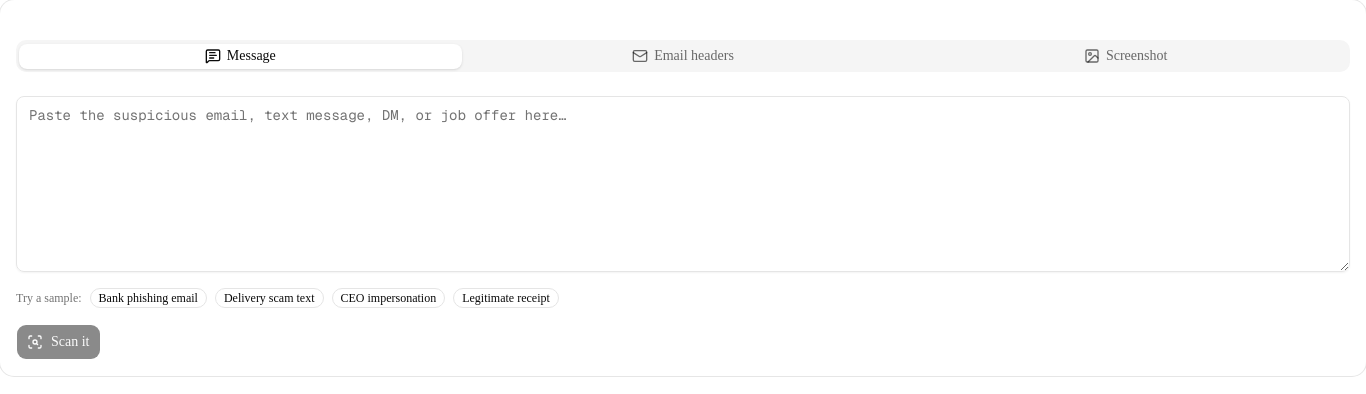
it: Scanner input modes › the Clear button empties the active input
This screenshot has width=1366, height=394.
Type "something" into the text box with placeholder "Paste the suspicious email".
click(683, 184); type("something")  # box [16,96,1350,272]
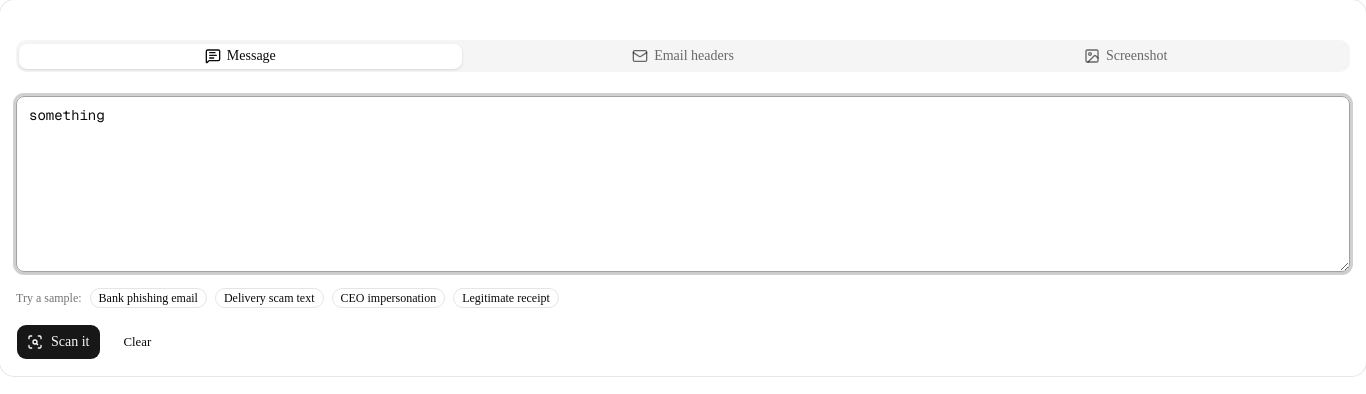
Click the button "Clear".
click(137, 342)  # box [112,328,162,356]
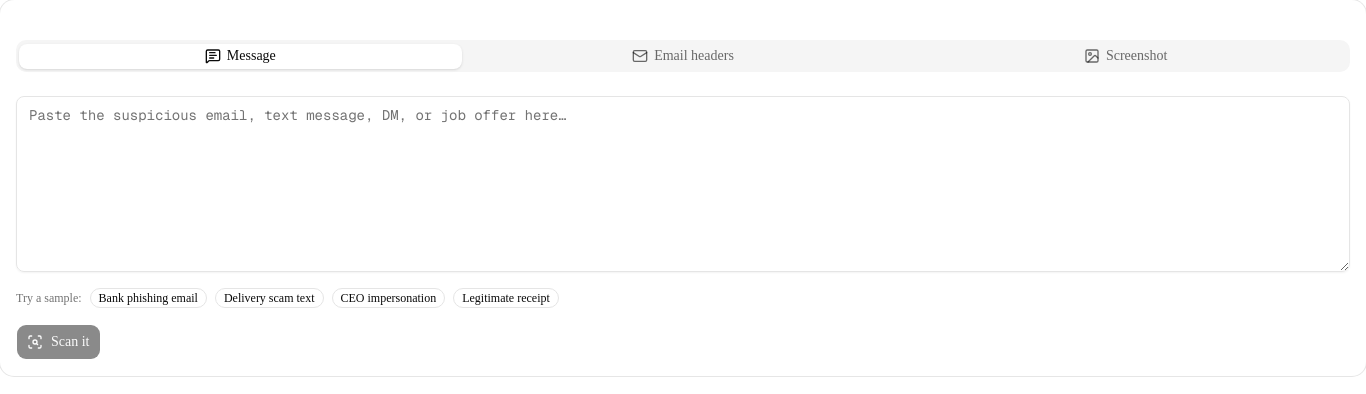
Expected: the text box with placeholder "Paste the suspicious email" is empty, [16,96,1350,272]
